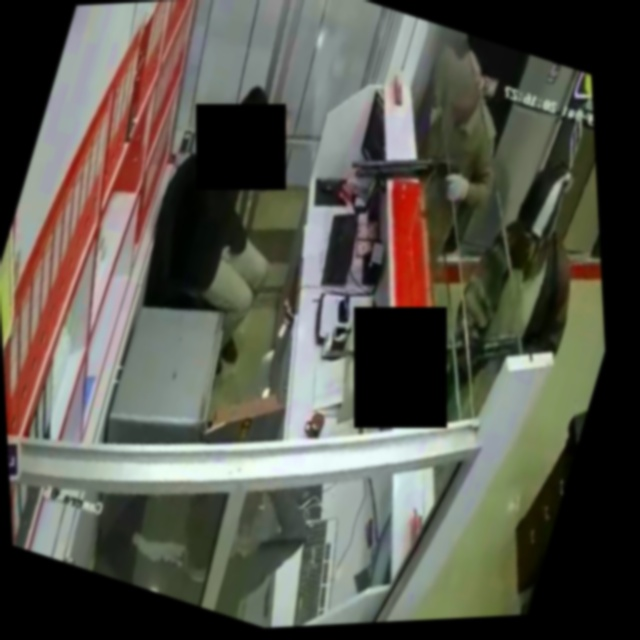gun: (342, 113, 473, 220), (407, 297, 521, 393)
